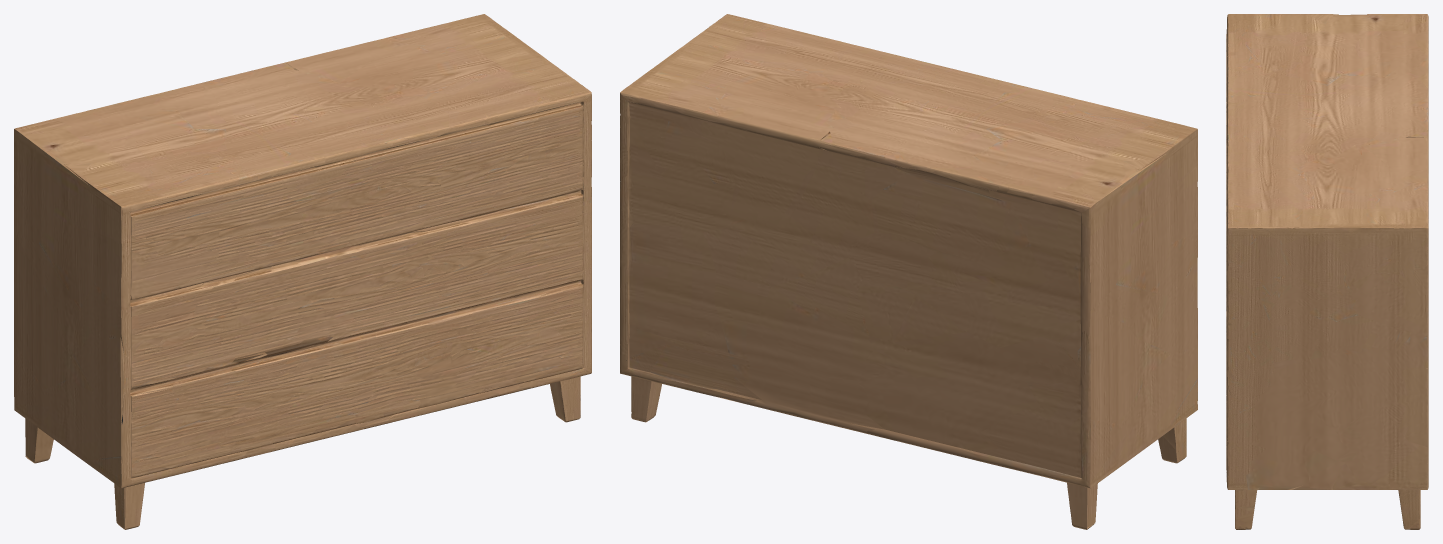
3 views of the same model, side by side, from view 1: azimuth 30°, elevation 25°; view 2: azimuth 150°, elevation 25°; view 3: azimuth 270°, elevation 25° (orthographic). The views are drawn at different scales.
Visible parts, largest first — view 1: Mesh_0; view 2: Mesh_0; view 3: Mesh_0.
Part boxes in pixels (<box>): Mesh_0: <box>14,14,591,529</box>; Mesh_0: <box>620,14,1197,529</box>; Mesh_0: <box>1226,14,1428,529</box>.
Size of the model in its own units: 1.2 by 0.8 by 0.48.
1 material, 1 textured.
